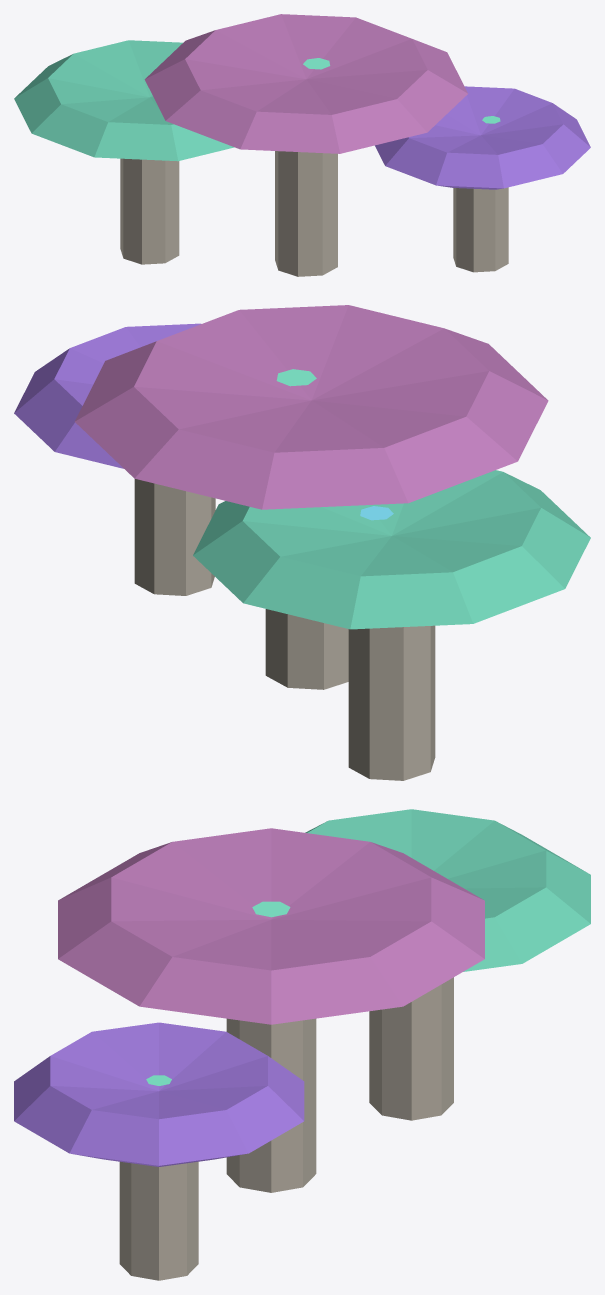
The model's file is decor_4.fbx.
3 views of the same model, one above another, from view 1: azimuth 30°, elevation 25°; view 2: azimuth 150°, elevation 25°; view 3: azimuth 270°, elevation 25° (orthographic). The views are drawn at different scales.
Parts seen in each view (by area): view 1: decor_4; view 2: decor_4; view 3: decor_4.
Part boxes in pixels (x1,y1,x2,y2): decor_4: (14, 14, 590, 276); decor_4: (14, 305, 590, 780); decor_4: (14, 809, 590, 1280).
Size of the model in its own units: 1.29 by 0.54 by 1.03.
